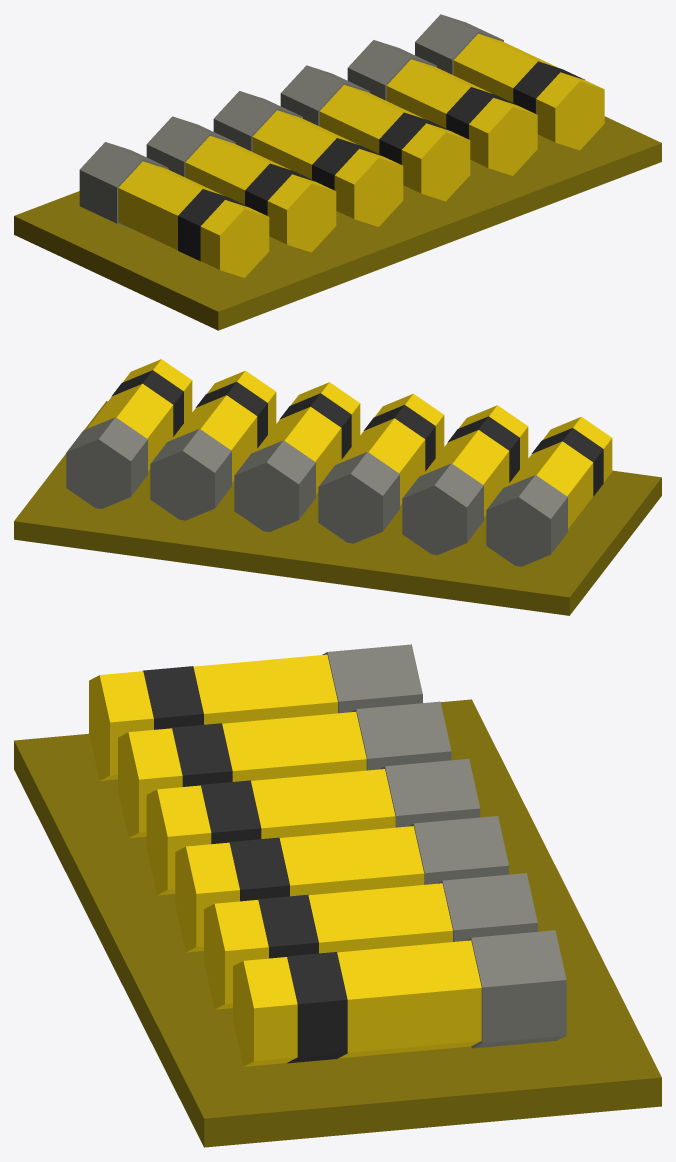
The model's file is ce_ammo_chshotgun_reg_b.obj.
3 views of the same model, one above another, from view 1: azimuth 30°, elevation 25°; view 2: azimuth 150°, elevation 25°; view 3: azimuth 270°, elevation 25° (orthographic). The views are drawn at different scales.
Parts seen in each view (by area): view 1: ce_ammo_chshotgun_reg_b_0, ce_ammo_chshotgun_reg_b_2, ce_ammo_chshotgun_reg_b_4, ce_ammo_chshotgun_reg_b_16, ce_ammo_chshotgun_reg_b_12, ce_ammo_chshotgun_reg_b_8, ce_ammo_chshotgun_reg_b_24, ce_ammo_chshotgun_reg_b_20, ce_ammo_chshotgun_reg_b_18, ce_ammo_chshotgun_reg_b_14, ce_ammo_chshotgun_reg_b_22, ce_ammo_chshotgun_reg_b_6 (+13 smaller); view 2: ce_ammo_chshotgun_reg_b_0, ce_ammo_chshotgun_reg_b_5, ce_ammo_chshotgun_reg_b_1, ce_ammo_chshotgun_reg_b_13, ce_ammo_chshotgun_reg_b_17, ce_ammo_chshotgun_reg_b_21, ce_ammo_chshotgun_reg_b_9, ce_ammo_chshotgun_reg_b_2, ce_ammo_chshotgun_reg_b_18, ce_ammo_chshotgun_reg_b_14, ce_ammo_chshotgun_reg_b_6, ce_ammo_chshotgun_reg_b_10 (+13 smaller); view 3: ce_ammo_chshotgun_reg_b_0, ce_ammo_chshotgun_reg_b_22, ce_ammo_chshotgun_reg_b_21, ce_ammo_chshotgun_reg_b_6, ce_ammo_chshotgun_reg_b_14, ce_ammo_chshotgun_reg_b_10, ce_ammo_chshotgun_reg_b_18, ce_ammo_chshotgun_reg_b_2, ce_ammo_chshotgun_reg_b_24, ce_ammo_chshotgun_reg_b_23, ce_ammo_chshotgun_reg_b_5, ce_ammo_chshotgun_reg_b_13 (+13 smaller).
Boxes of the visible parts, x1=… form: ce_ammo_chshotgun_reg_b_0: x1=14, y1=116, x2=661, y2=330; ce_ammo_chshotgun_reg_b_2: x1=118, y1=161, x2=223, y2=250; ce_ammo_chshotgun_reg_b_4: x1=200, y1=200, x2=269, y2=277; ce_ammo_chshotgun_reg_b_16: x1=401, y1=123, x2=470, y2=201; ce_ammo_chshotgun_reg_b_12: x1=334, y1=149, x2=403, y2=226; ce_ammo_chshotgun_reg_b_8: x1=267, y1=174, x2=336, y2=252; ce_ammo_chshotgun_reg_b_24: x1=536, y1=72, x2=604, y2=150; ce_ammo_chshotgun_reg_b_20: x1=469, y1=98, x2=537, y2=175; ce_ammo_chshotgun_reg_b_18: x1=386, y1=59, x2=491, y2=128; ce_ammo_chshotgun_reg_b_14: x1=319, y1=84, x2=424, y2=153; ce_ammo_chshotgun_reg_b_22: x1=453, y1=33, x2=558, y2=102; ce_ammo_chshotgun_reg_b_6: x1=185, y1=136, x2=289, y2=204; ce_ammo_chshotgun_reg_b_0: x1=14, y1=401, x2=661, y2=615; ce_ammo_chshotgun_reg_b_5: x1=402, y1=463, x2=483, y2=555; ce_ammo_chshotgun_reg_b_1: x1=486, y1=475, x2=567, y2=566; ce_ammo_chshotgun_reg_b_13: x1=234, y1=440, x2=315, y2=531; ce_ammo_chshotgun_reg_b_17: x1=150, y1=429, x2=231, y2=520; ce_ammo_chshotgun_reg_b_21: x1=66, y1=417, x2=147, y2=508; ce_ammo_chshotgun_reg_b_9: x1=318, y1=452, x2=399, y2=543; ce_ammo_chshotgun_reg_b_2: x1=507, y1=441, x2=593, y2=528; ce_ammo_chshotgun_reg_b_18: x1=171, y1=395, x2=257, y2=482; ce_ammo_chshotgun_reg_b_14: x1=255, y1=406, x2=341, y2=494; ce_ammo_chshotgun_reg_b_6: x1=423, y1=430, x2=509, y2=517; ce_ammo_chshotgun_reg_b_10: x1=339, y1=418, x2=425, y2=505; ce_ammo_chshotgun_reg_b_0: x1=14, y1=699, x2=661, y2=1147; ce_ammo_chshotgun_reg_b_22: x1=337, y1=940, x2=481, y2=1058; ce_ammo_chshotgun_reg_b_21: x1=465, y1=930, x2=566, y2=1048; ce_ammo_chshotgun_reg_b_6: x1=222, y1=711, x2=366, y2=781; ce_ammo_chshotgun_reg_b_14: x1=279, y1=826, x2=424, y2=896; ce_ammo_chshotgun_reg_b_10: x1=251, y1=769, x2=395, y2=838; ce_ammo_chshotgun_reg_b_18: x1=308, y1=883, x2=452, y2=953; ce_ammo_chshotgun_reg_b_2: x1=193, y1=654, x2=337, y2=724; ce_ammo_chshotgun_reg_b_24: x1=233, y1=957, x2=297, y2=1066; ce_ammo_chshotgun_reg_b_23: x1=286, y1=952, x2=347, y2=1063; ce_ammo_chshotgun_reg_b_5: x1=351, y1=701, x2=451, y2=770; ce_ammo_chshotgun_reg_b_13: x1=408, y1=816, x2=508, y2=884.
Size of the model in its own units: 0.9326 by 0.1427 by 0.6092.
